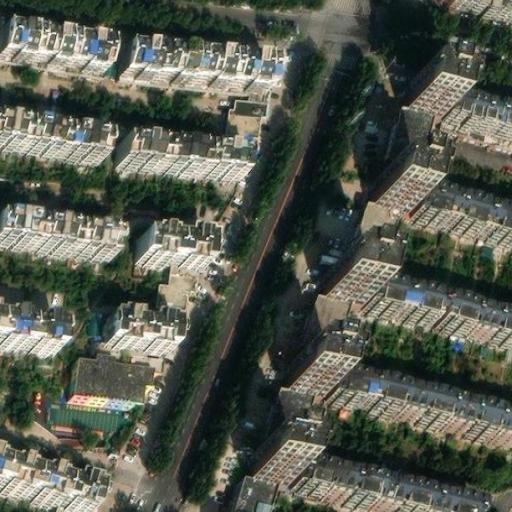building: (329, 357, 512, 427), (287, 453, 465, 512), (362, 264, 512, 328), (124, 41, 275, 85), (401, 188, 512, 243), (0, 217, 113, 259), (115, 136, 239, 171), (298, 284, 352, 358), (0, 116, 99, 156), (263, 383, 314, 453), (443, 92, 512, 136), (65, 361, 124, 402), (390, 96, 437, 147), (218, 95, 262, 147), (234, 467, 280, 512), (0, 304, 55, 341), (244, 441, 293, 479), (401, 65, 447, 105), (323, 255, 369, 295), (132, 228, 193, 258), (362, 177, 408, 216), (102, 307, 157, 339), (354, 206, 397, 245), (288, 353, 331, 388), (43, 499, 77, 512)
